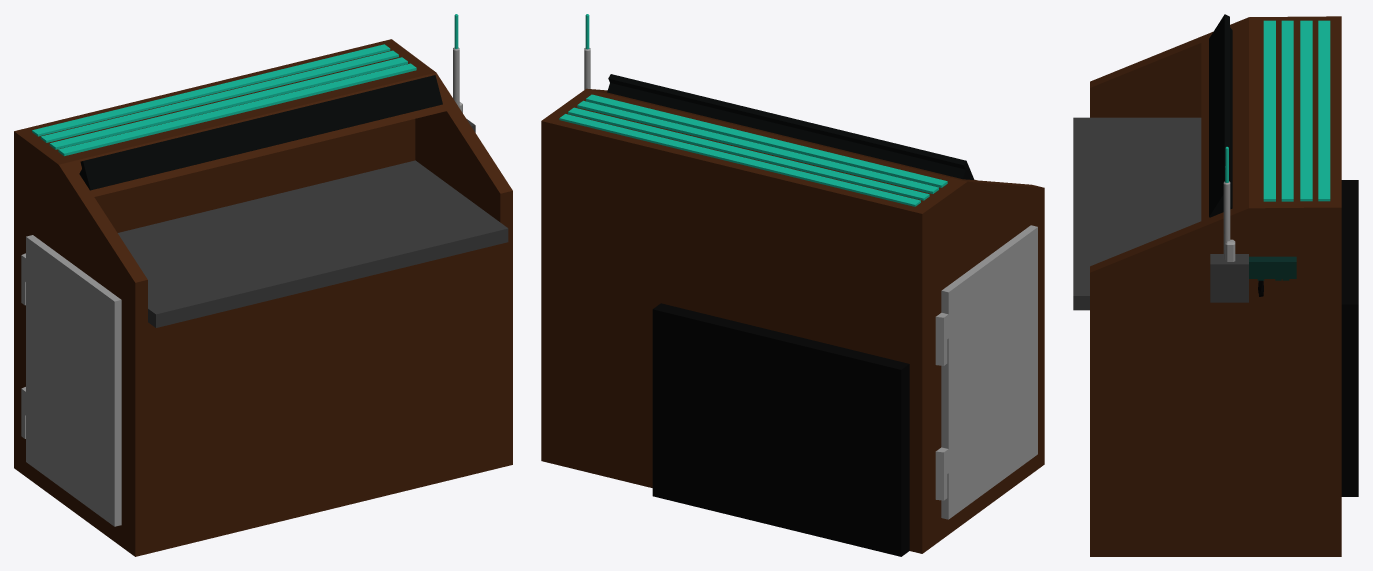
Rendered from TableTest.fbx.
3 views of the same model, side by side, from view 1: azimuth 30°, elevation 25°; view 2: azimuth 150°, elevation 25°; view 3: azimuth 270°, elevation 25° (orthographic). The views are drawn at different scales.
Visible parts, largest first — view 1: polySurface17; view 2: polySurface17; view 3: polySurface17.
Boxes of the visible parts, x1,y1,x2,y2 form: polySurface17: (14,14,512,556); polySurface17: (541,14,1044,556); polySurface17: (1073,14,1358,556).
Bounding box in the file's own units: 164 × 155 × 96.66.
